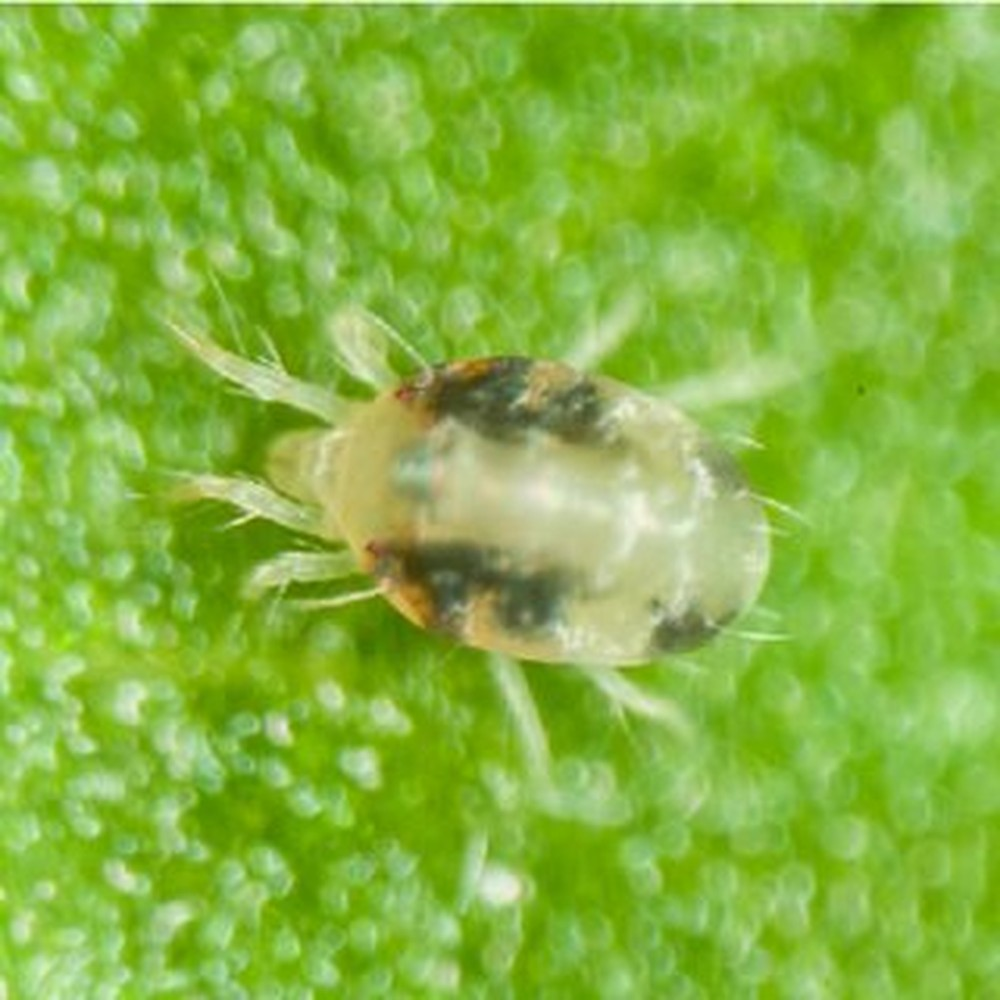Aracnido Rojo: (146, 262, 858, 798)
